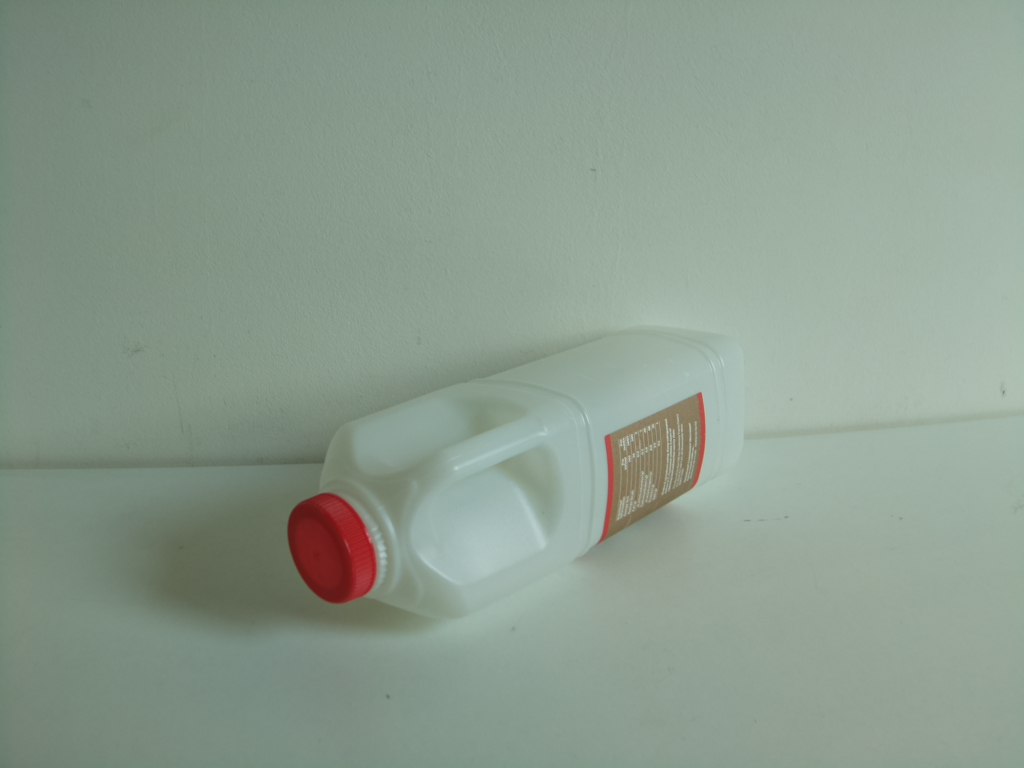milk: (287, 321, 749, 638)
